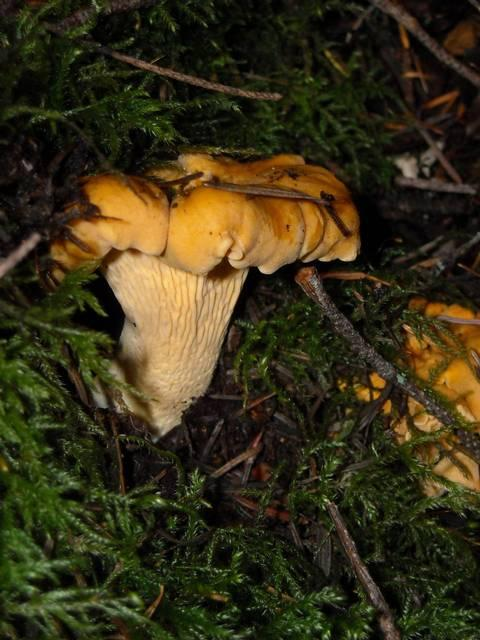Edible Mushroom: (38, 147, 362, 441)
